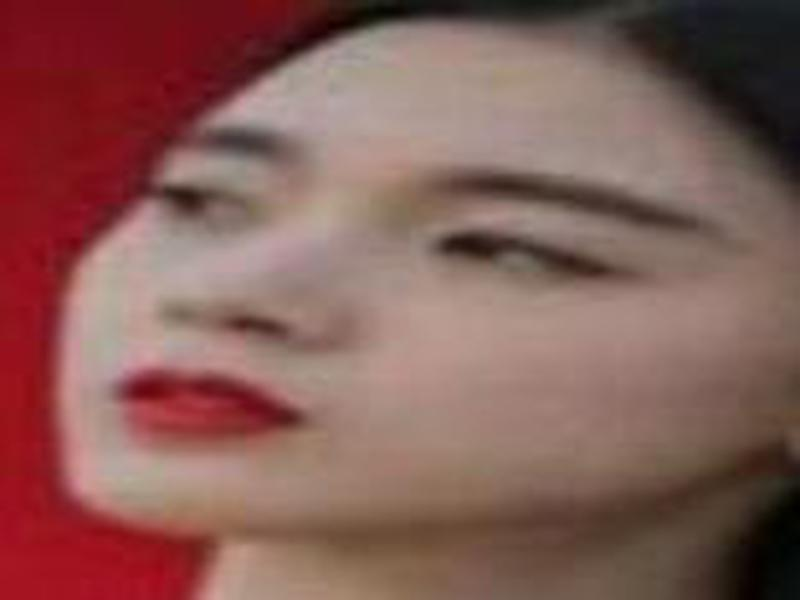without_mask: (48, 63, 768, 557)
